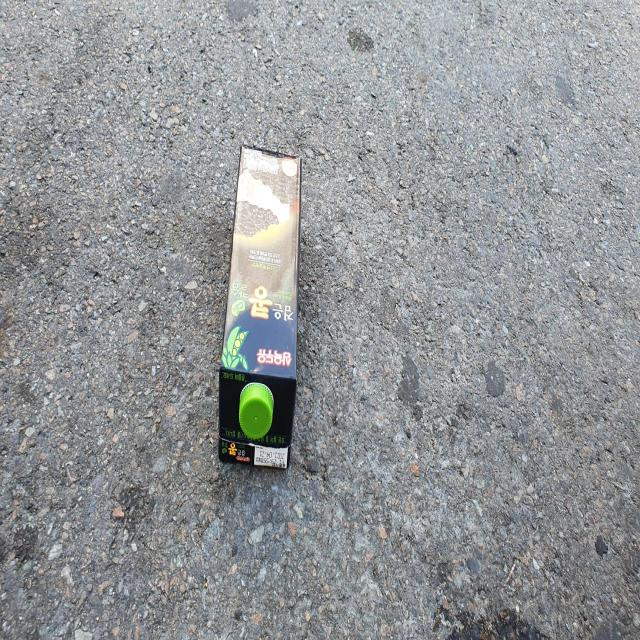paperpack: (218, 144, 301, 468)
